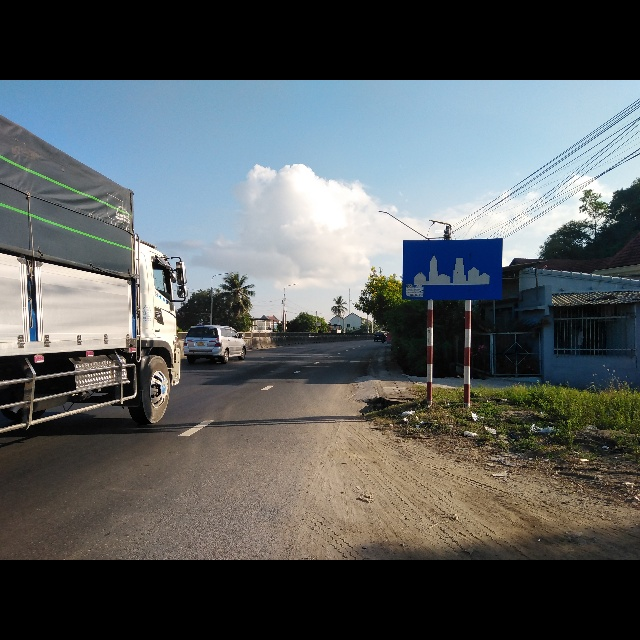Khu đông dân cư: (401, 238, 505, 300)
